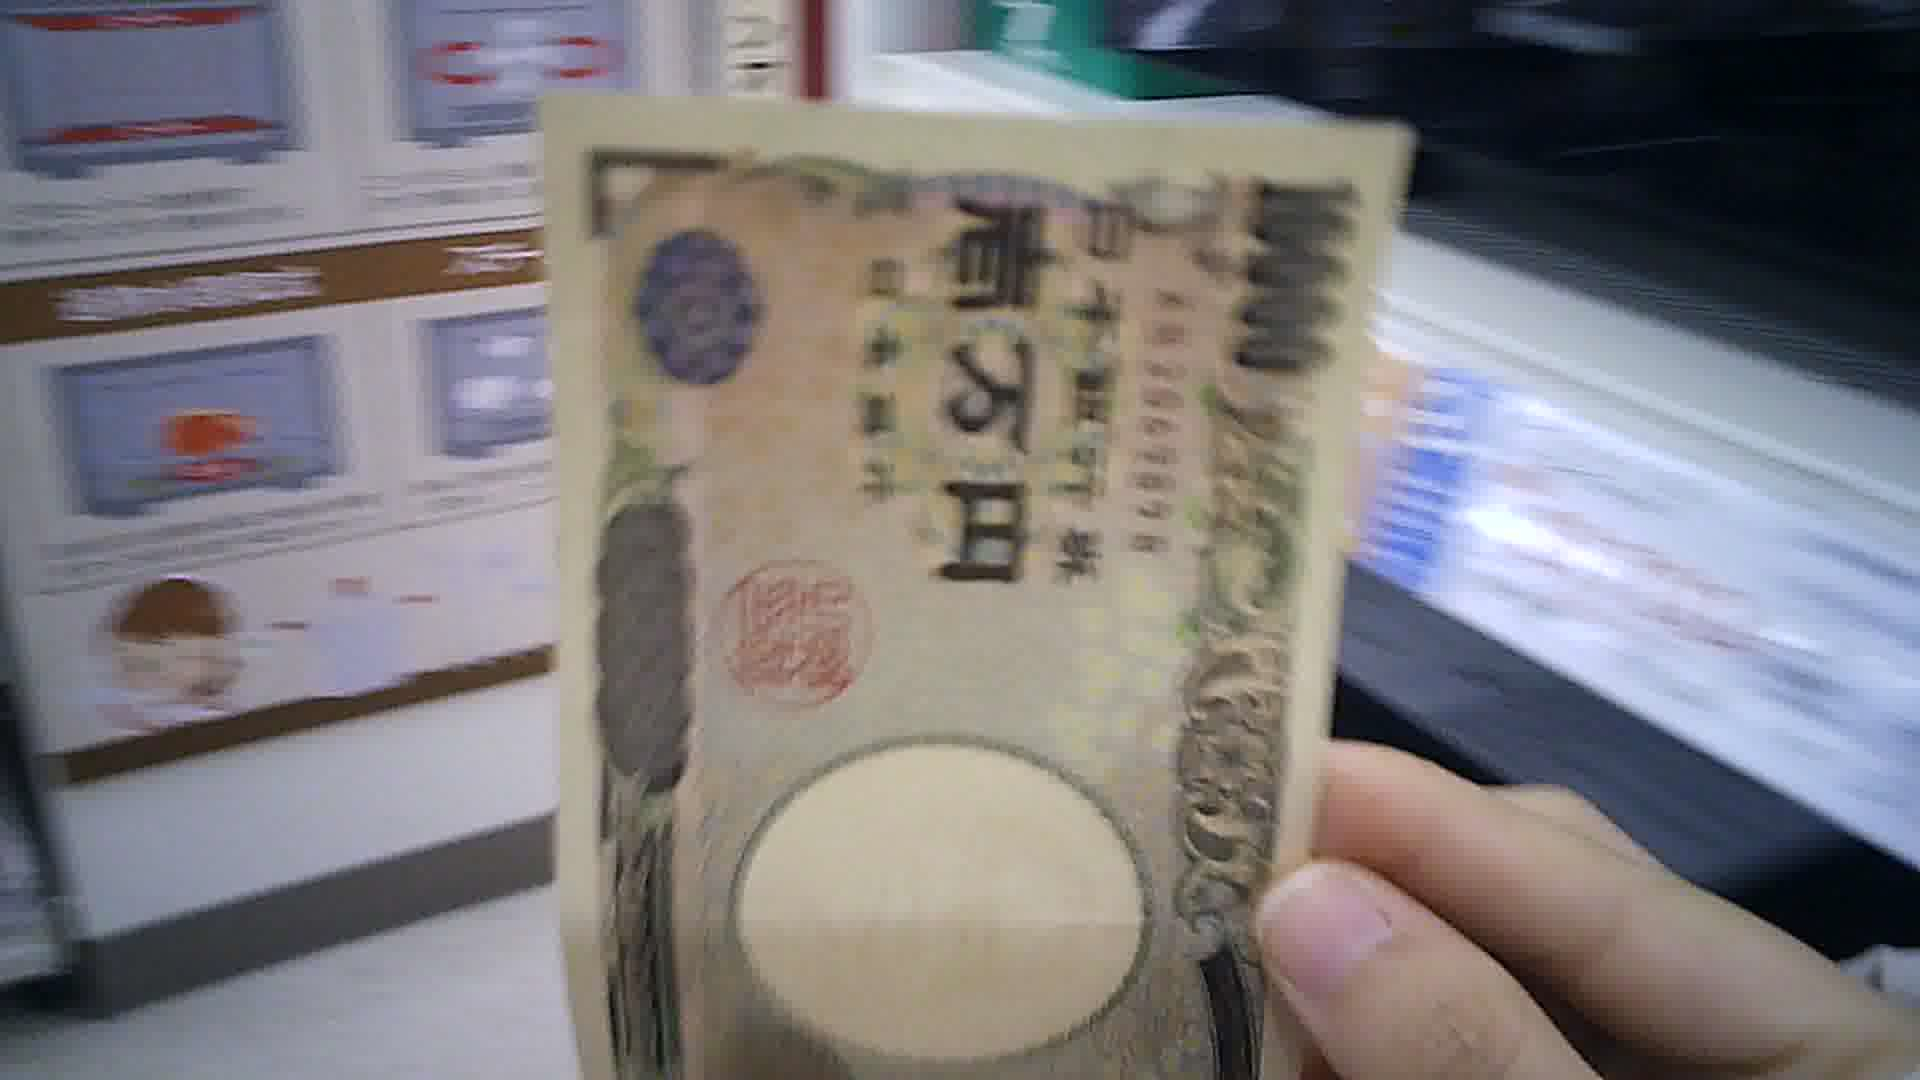10,000 Yen: (529, 67, 1383, 1079)
